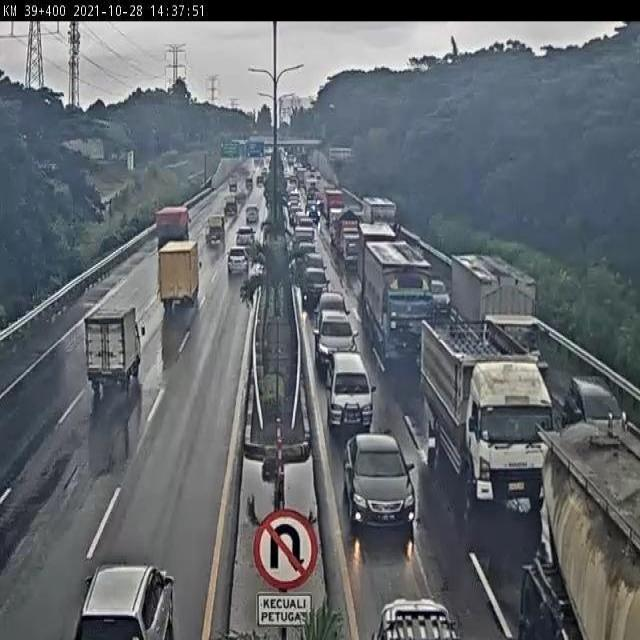Car: (72, 563, 176, 639), (345, 429, 416, 532), (324, 353, 375, 433), (368, 597, 462, 640), (314, 312, 358, 378), (430, 280, 450, 318), (227, 246, 249, 274), (236, 226, 254, 248), (245, 205, 259, 224)
Truck: (422, 316, 550, 512), (538, 425, 639, 640), (364, 238, 427, 366), (450, 252, 537, 322), (84, 304, 142, 392), (159, 238, 200, 310), (204, 213, 226, 243)
